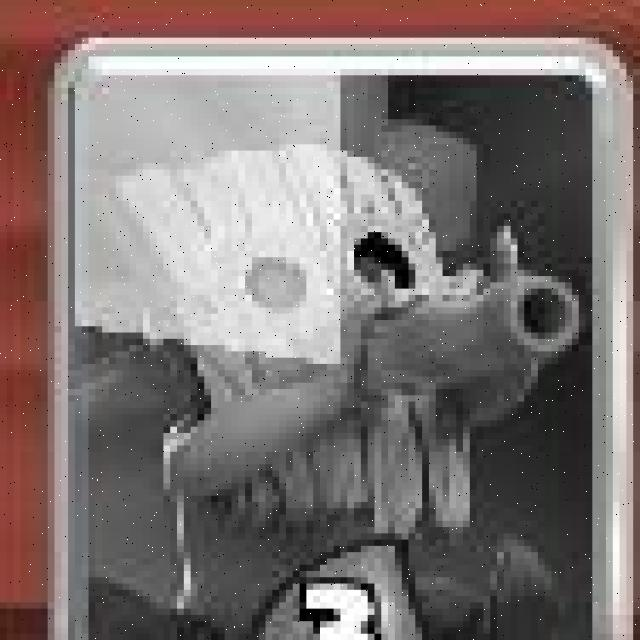Dart_Goblin: (52, 33, 640, 640)
